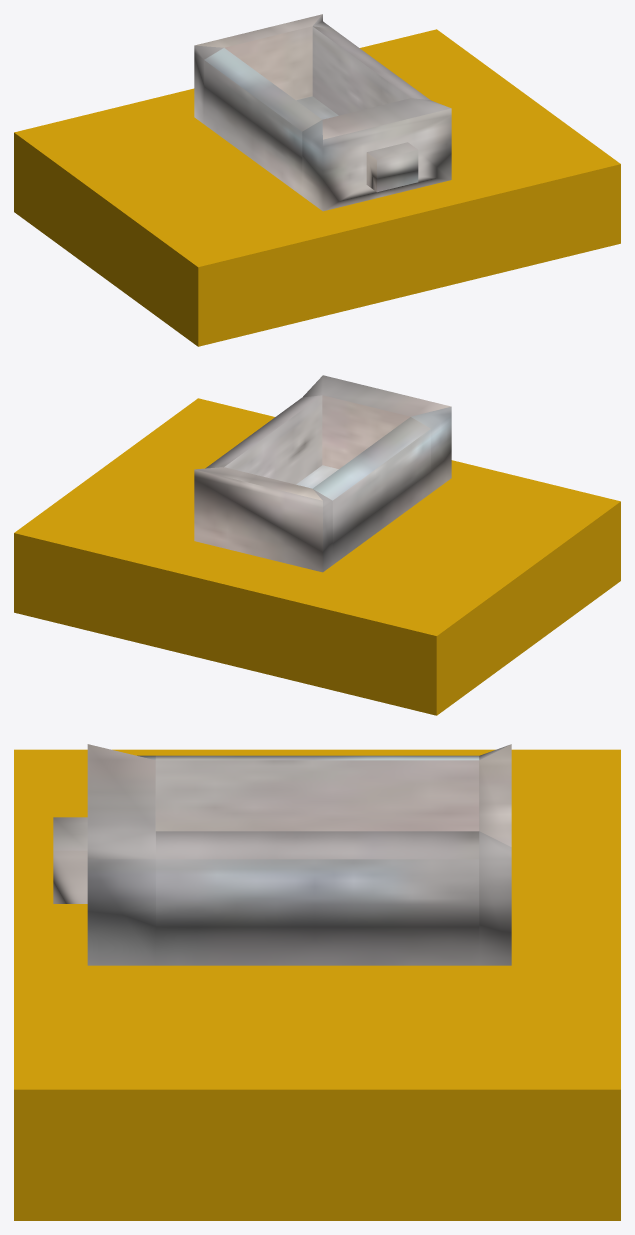
File: benda33.glb
3 renders of one model, top to bottom at view 1: azimuth 30°, elevation 25°; view 2: azimuth 150°, elevation 25°; view 3: azimuth 270°, elevation 25°, orthographic. The views are drawn at different scales.
Visible parts, largest first — view 1: Cube.002, Cube; view 2: Cube.002, Cube; view 3: Cube.002, Cube.
Part boxes in pixels (left/top/right/bottom): Cube.002: left=14, top=29, right=620, bottom=346; Cube: left=194, top=14, right=451, bottom=211; Cube.002: left=14, top=398, right=620, bottom=715; Cube: left=194, top=375, right=451, bottom=572; Cube.002: left=14, top=749, right=620, bottom=1220; Cube: left=53, top=744, right=511, bottom=965.
Size of the model in its own units: 3.92 by 1.37 by 2.96.
2 materials, 1 textured.
